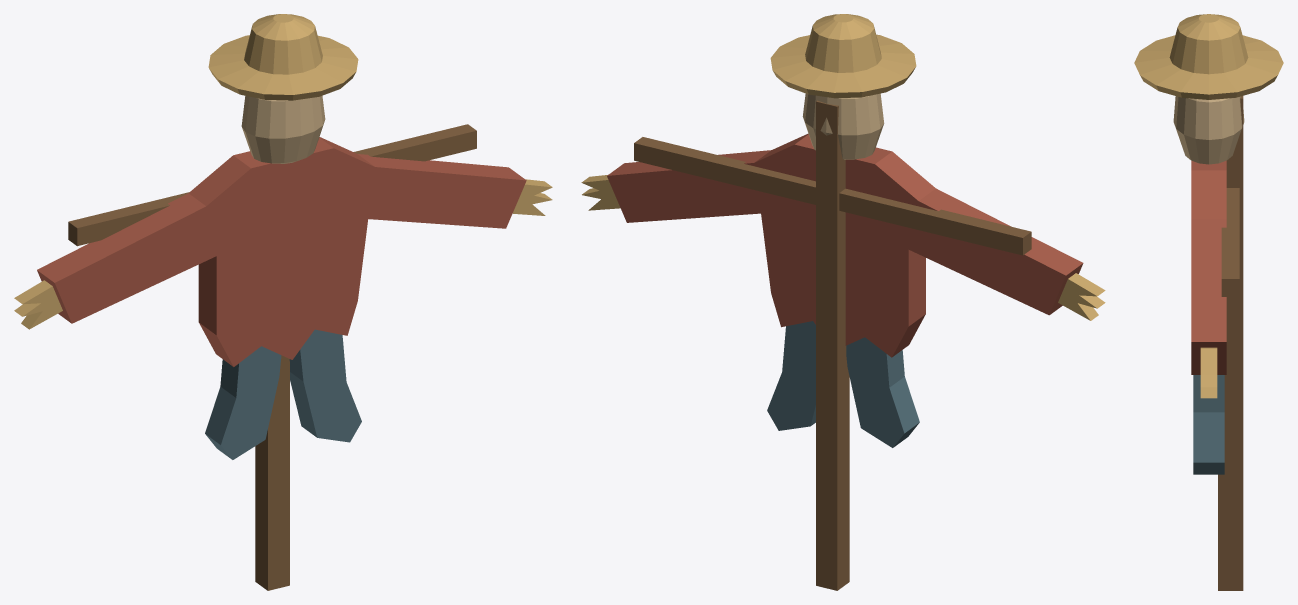
The picture shows the model from 3 angles, left to right: view 1: azimuth 30°, elevation 25°; view 2: azimuth 150°, elevation 25°; view 3: azimuth 270°, elevation 25°; orthographic projection. The views are drawn at different scales.
Visible parts, largest first — view 1: WholeRagCoatWithDroopingSleeves, WholePeakedStrawHatForm, WholeGroundScarecrowStake, WholeHangingTrouserLeg1, WholeHangingTrouserLeg2, WholeAnonymousSackHead, WholeSupportingCrossarm, WholeBundledStrawHand2, WholeBundledStrawHand1; view 2: WholeRagCoatWithDroopingSleeves, WholeGroundScarecrowStake, WholeSupportingCrossarm, WholePeakedStrawHatForm, WholeHangingTrouserLeg2, WholeHangingTrouserLeg1, WholeAnonymousSackHead, WholeBundledStrawHand2, WholeBundledStrawHand1; view 3: WholePeakedStrawHatForm, WholeGroundScarecrowStake, WholeRagCoatWithDroopingSleeves, WholeAnonymousSackHead, WholeHangingTrouserLeg1, WholeSupportingCrossarm, WholeBundledStrawHand1.
Boxes of the visible parts, x1=… form: WholeRagCoatWithDroopingSleeves: x1=37, y1=137, x2=526, y2=366; WholePeakedStrawHatForm: x1=208, y1=14, x2=358, y2=100; WholeGroundScarecrowStake: x1=255, y1=355, x2=289, y2=590; WholeHangingTrouserLeg1: x1=289, y1=329, x2=361, y2=442; WholeHangingTrouserLeg2: x1=205, y1=346, x2=281, y2=459; WholeAnonymousSackHead: x1=241, y1=96, x2=325, y2=163; WholeSupportingCrossarm: x1=68, y1=124, x2=476, y2=246; WholeBundledStrawHand2: x1=14, y1=280, x2=62, y2=329; WholeBundledStrawHand1: x1=512, y1=179, x2=552, y2=215; WholeRagCoatWithDroopingSleeves: x1=607, y1=133, x2=1083, y2=357; WholeGroundScarecrowStake: x1=816, y1=100, x2=849, y2=590; WholeSupportingCrossarm: x1=634, y1=137, x2=1031, y2=255; WholePeakedStrawHatForm: x1=770, y1=14, x2=916, y2=98; WholeHangingTrouserLeg2: x1=846, y1=337, x2=919, y2=447; WholeHangingTrouserLeg1: x1=767, y1=321, x2=815, y2=430; WholeAnonymousSackHead: x1=802, y1=93, x2=884, y2=159; WholeBundledStrawHand2: x1=1058, y1=273, x2=1105, y2=320; WholeBundledStrawHand1: x1=581, y1=175, x2=620, y2=210; WholePeakedStrawHatForm: x1=1134, y1=14, x2=1283, y2=99; WholeGroundScarecrowStake: x1=1218, y1=96, x2=1243, y2=590; WholeRagCoatWithDroopingSleeves: x1=1191, y1=160, x2=1226, y2=374; WholeAnonymousSackHead: x1=1173, y1=96, x2=1244, y2=164; WholeHangingTrouserLeg1: x1=1193, y1=375, x2=1224, y2=474; WholeSupportingCrossarm: x1=1221, y1=188, x2=1239, y2=296; WholeBundledStrawHand1: x1=1200, y1=347, x2=1217, y2=398.
Bounding box in the file's own units: 1.54 × 1.59 × 0.38.
